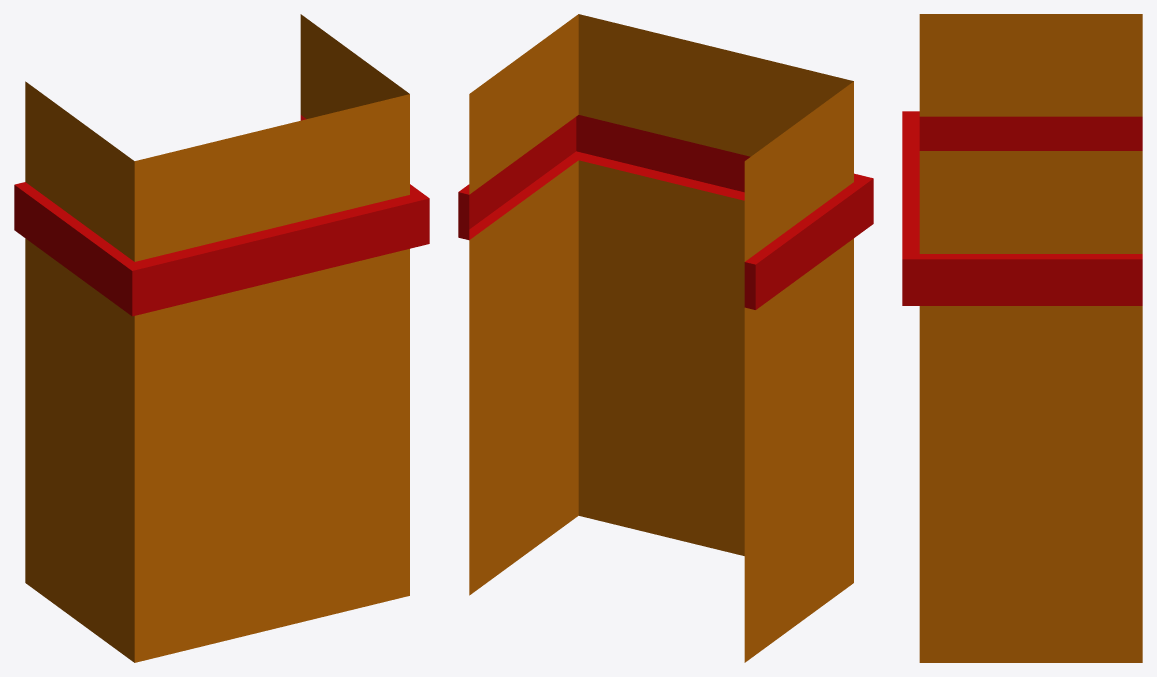
Rendered from RPG_Bottom_pillar.fbx.
The picture shows the model from 3 angles, left to right: view 1: azimuth 30°, elevation 25°; view 2: azimuth 150°, elevation 25°; view 3: azimuth 270°, elevation 25°; orthographic projection. The views are drawn at different scales.
Parts seen in each view (by area): view 1: Cube.025; view 2: Cube.025; view 3: Cube.025.
Part boxes in pixels (<box>): Cube.025: <box>14,14,429,662</box>; Cube.025: <box>458,14,873,662</box>; Cube.025: <box>902,14,1142,662</box>.
Size of the model in its own units: 159 by 109 by 257.
